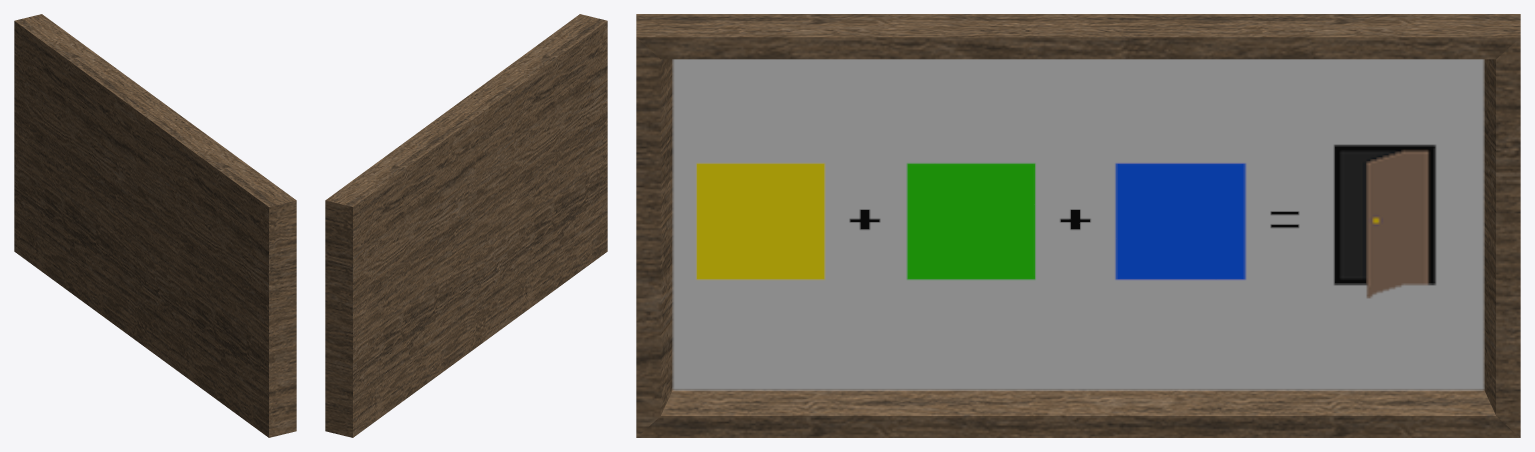
The model's file is Sign Guide 1.fbx.
The picture shows the model from 3 angles, left to right: view 1: azimuth 30°, elevation 25°; view 2: azimuth 150°, elevation 25°; view 3: azimuth 270°, elevation 25°; orthographic projection. The views are drawn at different scales.
Parts seen in each view (by area): view 1: Cube; view 2: Cube; view 3: Cube.
Part boxes in pixels (left/top/right/bottom): Cube: left=14, top=14, right=296, bottom=437; Cube: left=325, top=14, right=607, bottom=437; Cube: left=636, top=14, right=1520, bottom=437.
Bounding box in the file's own units: 25.06 × 200 × 400.
